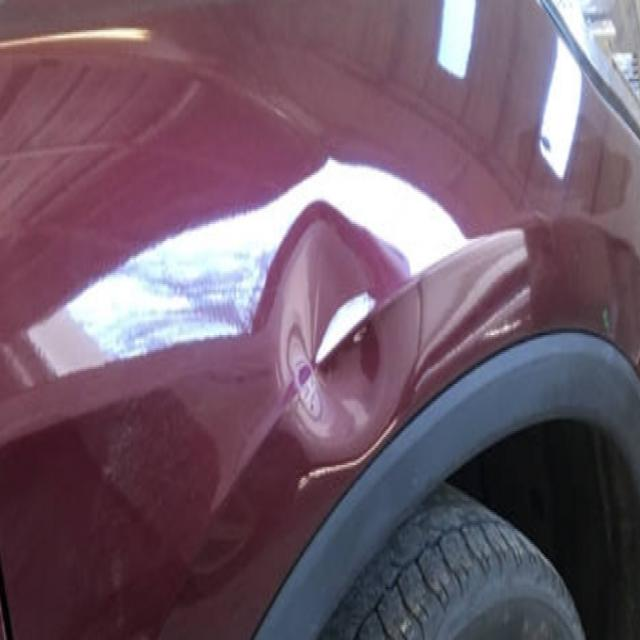dents: (255, 189, 420, 483)
